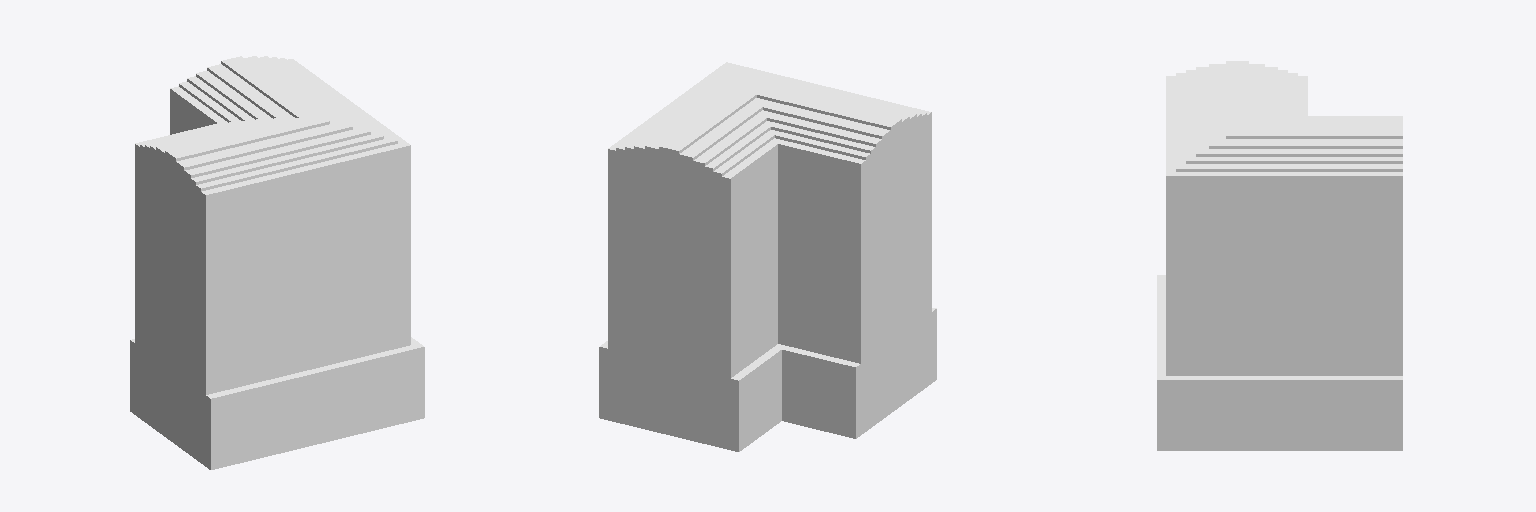
Rendered from CornerWall.obj.
The picture shows the model from 3 angles: view 1: azimuth 30°, elevation 25°; view 2: azimuth 150°, elevation 25°; view 3: azimuth 270°, elevation 25°; orthographic projection.
Parts seen in each view (by area): view 1: object 1; view 2: object 1; view 3: object 1.
Part boxes in pixels (left/top/right/bottom): object 1: left=130, top=56, right=424, bottom=469; object 1: left=599, top=62, right=936, bottom=451; object 1: left=1157, top=61, right=1402, bottom=450.
Bounding box in the file's own units: 7.5 × 9.6 × 7.5.